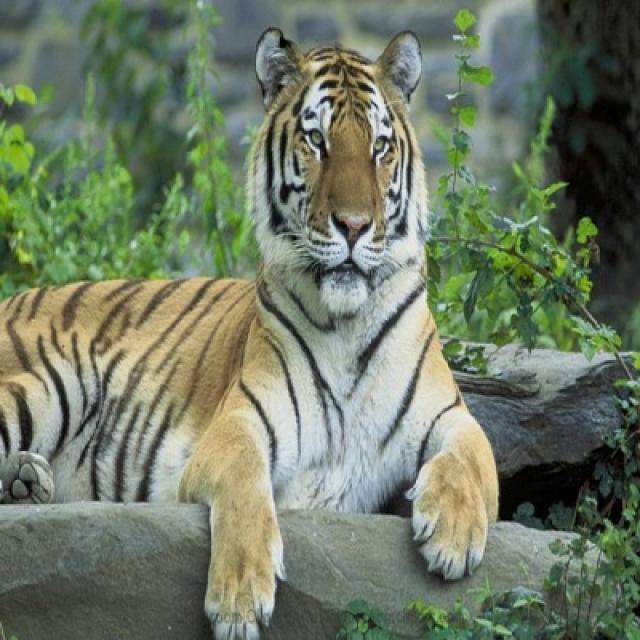Tiger: (0, 23, 503, 638)
